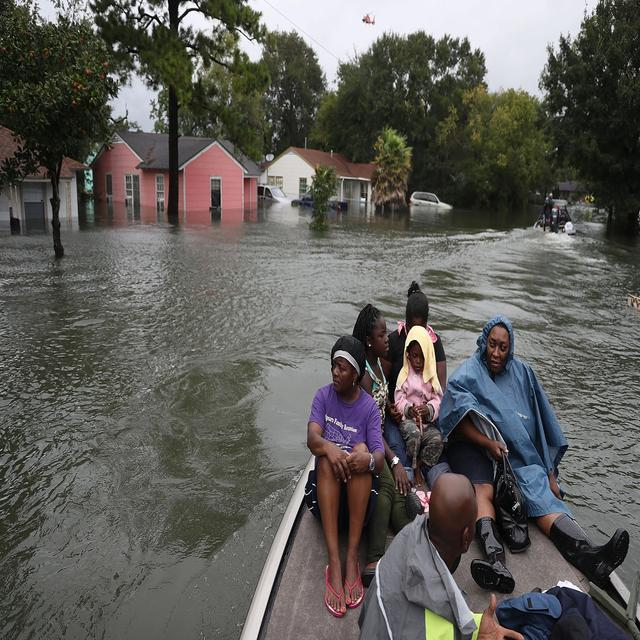Person-RiskLevel3: (302, 271, 640, 615)
